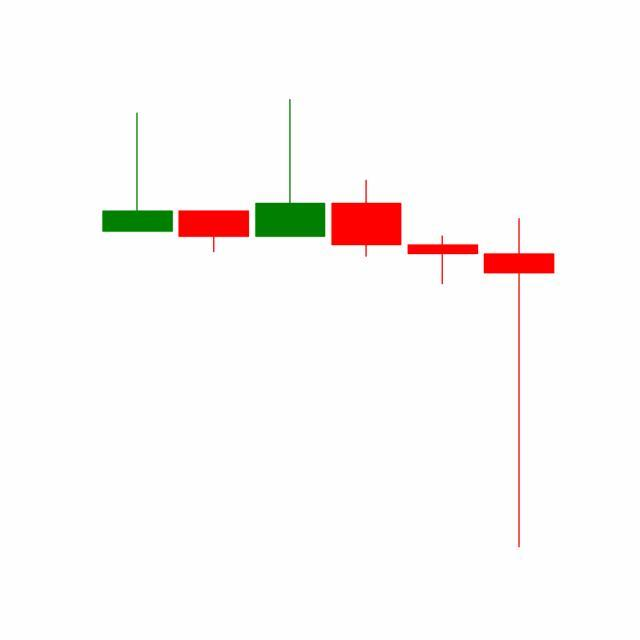Spinning Top: (404, 235, 482, 285)
